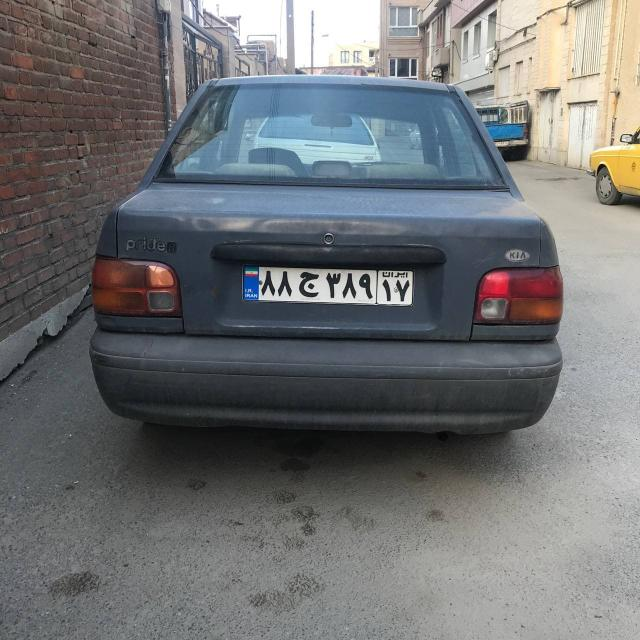Plates: (242, 266, 413, 304)
